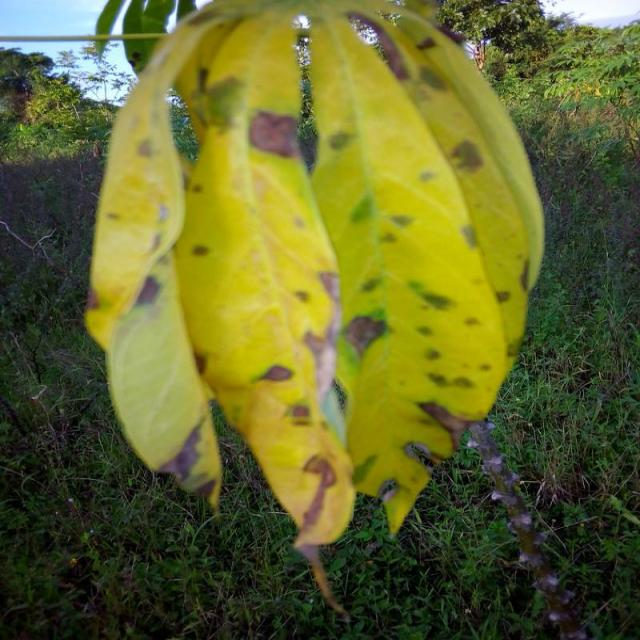cassava leaf: (84, 0, 547, 617)
